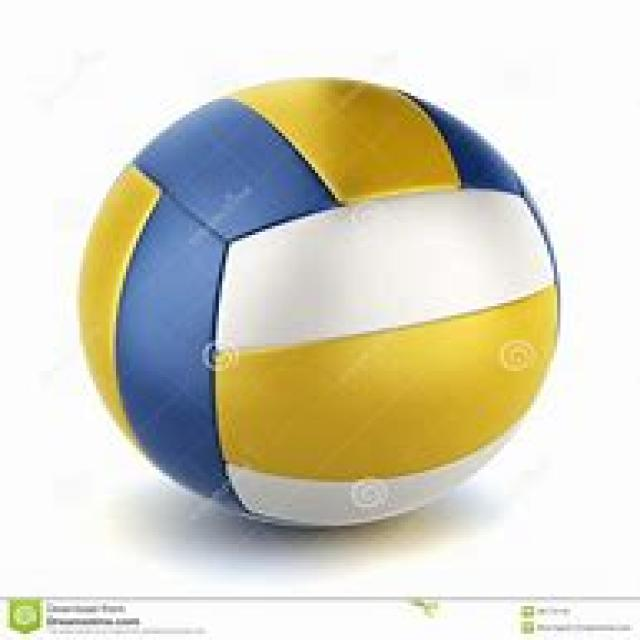Volleyball: (78, 75, 562, 529)
